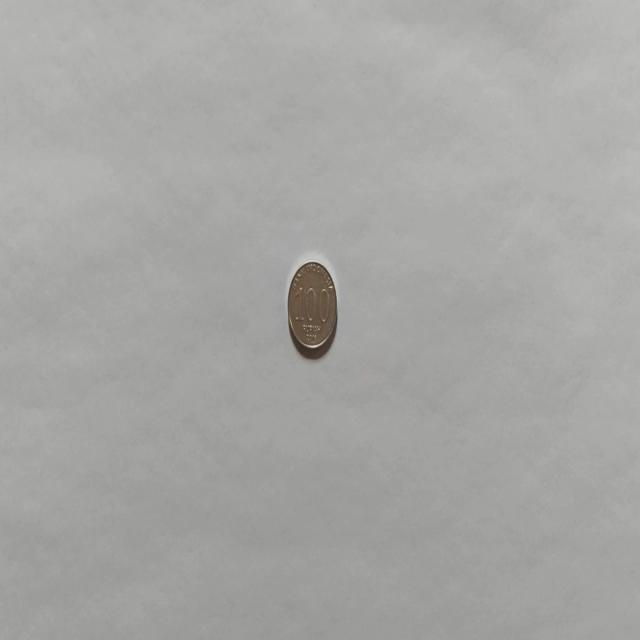seratus rupiah: (286, 258, 338, 354)
